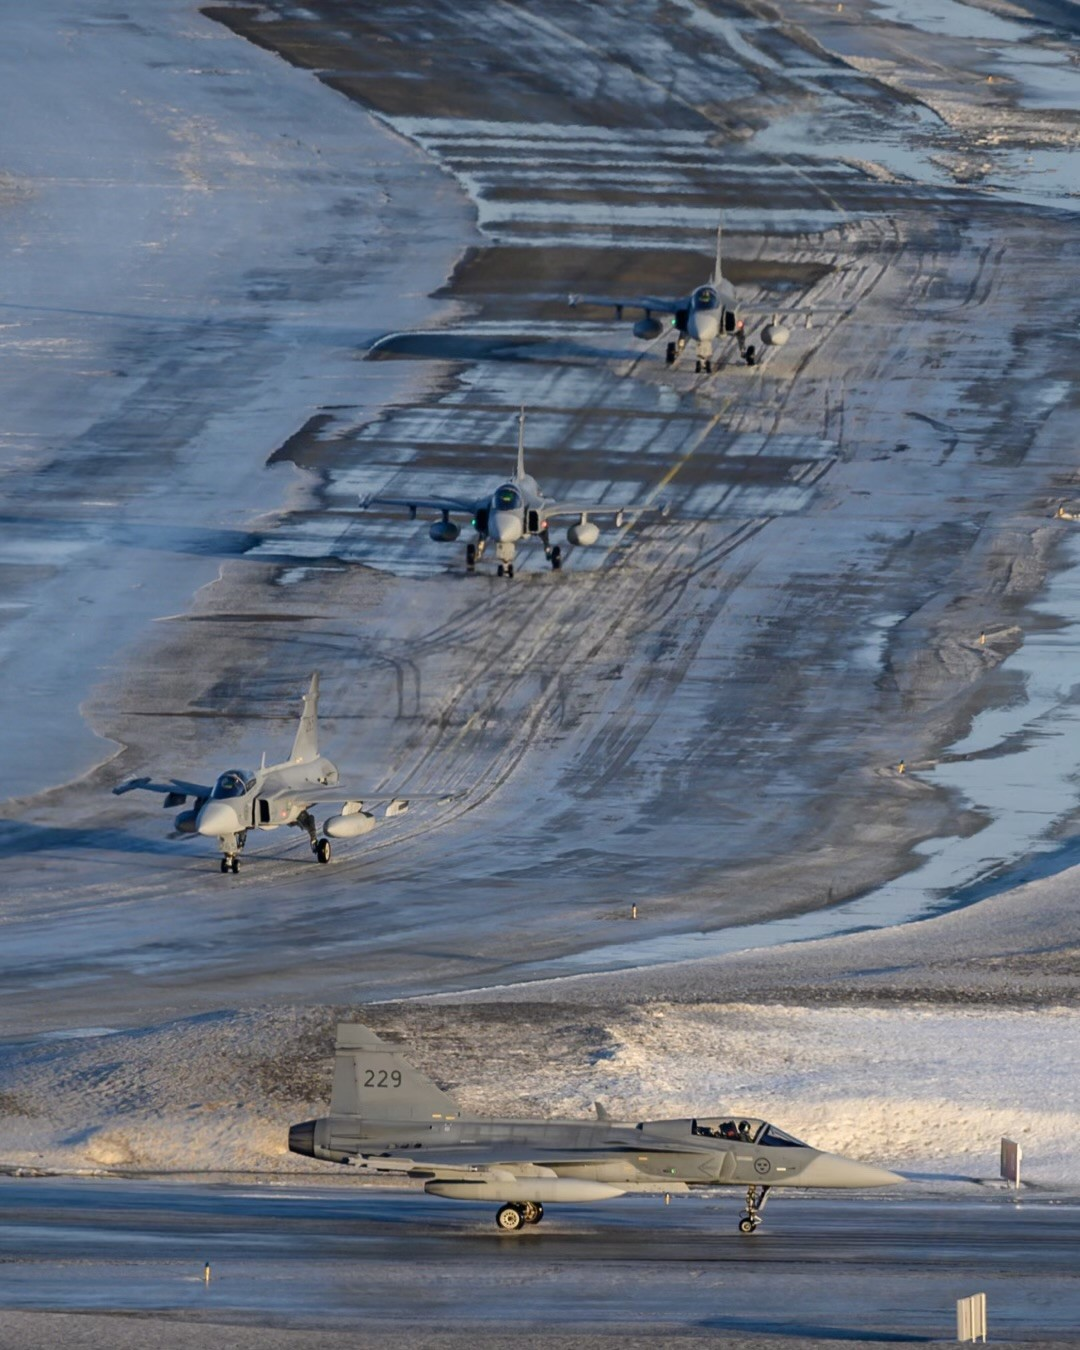JAS39: (288, 1023, 941, 1234), (111, 671, 472, 874), (358, 406, 673, 579), (568, 222, 857, 374)
